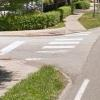Crosswalk: (24, 23, 82, 66)
